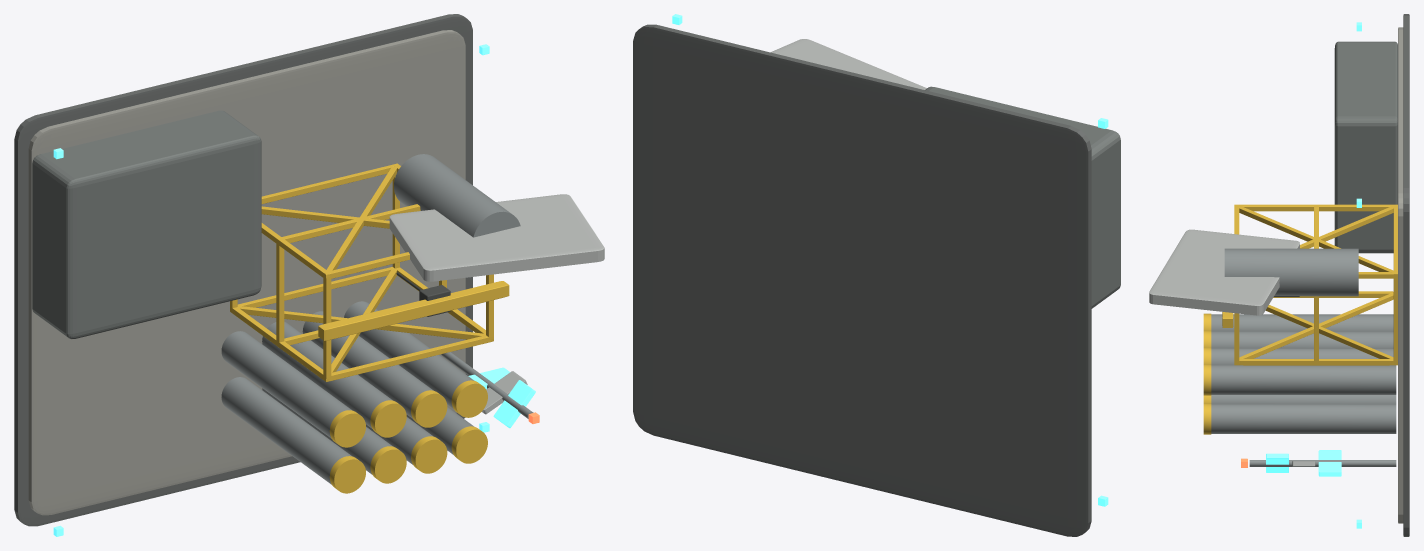
The model's file is b-34-abm-battery-lod1.glb.
3 renders of one model, left to right at view 1: azimuth 30°, elevation 25°; view 2: azimuth 150°, elevation 25°; view 3: azimuth 270°, elevation 25°, orthographic. The views are drawn at different scales.
Visible parts, largest first — view 1: foundation_inner_pad, bunker_main, foundation, primary_tracking_radar, radar_pedestal, missile_01_tube, missile_05_tube, reload_crane_bridge, missile_08_tube, missile_06_tube, missile_07_tube, reload_crane_brace_a_-1.5 (+25 smaller); view 2: foundation, bunker_main, primary_tracking_radar; view 3: bunker_main, primary_tracking_radar, missile_04_tube, missile_08_tube, radar_pedestal, foundation, foundation_inner_pad, missile_05_tube, missile_06_tube, missile_07_tube, missile_03_tube, reload_crane_brace_a_-1.5 (+12 smaller).
Boxes of the visible parts, bbox=[...] form: foundation_inner_pad: bbox=[28, 30, 465, 515]; bunker_main: bbox=[32, 110, 261, 339]; foundation: bbox=[14, 14, 472, 526]; primary_tracking_radar: bbox=[389, 194, 604, 281]; radar_pedestal: bbox=[394, 154, 520, 237]; missile_01_tube: bbox=[221, 377, 352, 484]; missile_05_tube: bbox=[221, 331, 352, 438]; reload_crane_bridge: bbox=[318, 281, 509, 340]; missile_08_tube: bbox=[344, 301, 474, 408]; missile_06_tube: bbox=[262, 322, 392, 428]; missile_07_tube: bbox=[302, 311, 433, 418]; reload_crane_brace_a_-1.5: bbox=[238, 306, 485, 339]; foundation: bbox=[633, 24, 1091, 536]; bunker_main: bbox=[925, 86, 1120, 308]; primary_tracking_radar: bbox=[771, 39, 926, 89]; bunker_main: bbox=[1334, 41, 1397, 253]; primary_tracking_radar: bbox=[1149, 229, 1299, 315]; missile_04_tube: bbox=[1211, 404, 1396, 433]; missile_08_tube: bbox=[1211, 365, 1396, 394]; radar_pedestal: bbox=[1224, 248, 1358, 296]; foundation: bbox=[1403, 14, 1409, 536]; foundation_inner_pad: bbox=[1398, 27, 1403, 523]; missile_05_tube: bbox=[1211, 314, 1393, 331]; missile_06_tube: bbox=[1211, 331, 1393, 347]; missile_07_tube: bbox=[1211, 348, 1393, 364]; missile_03_tube: bbox=[1211, 395, 1396, 403]; reload_crane_brace_a_-1.5: bbox=[1239, 293, 1393, 358].
Size of what is drawn, in the model's own units: 14.34 by 12 by 8.16.
